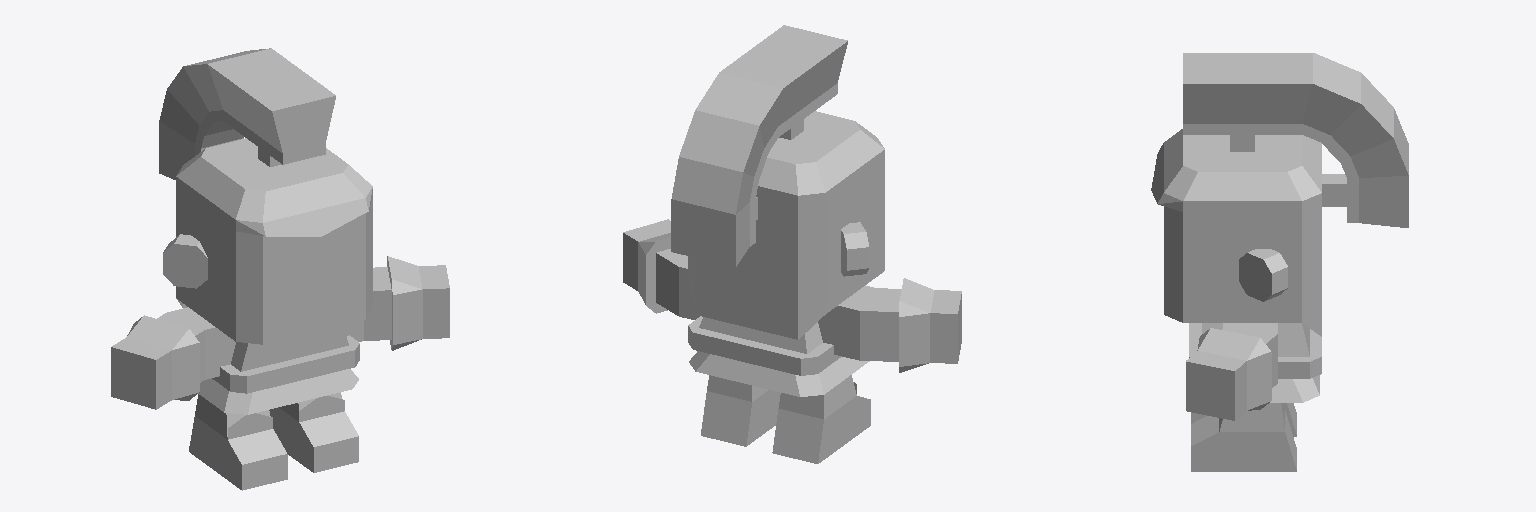
File: soldier.obj
3 renders of one model, left to right at view 1: azimuth 30°, elevation 25°; view 2: azimuth 150°, elevation 25°; view 3: azimuth 270°, elevation 25°, orthographic.
Parts seen in each view (by area): view 1: head_mesh, body_mesh; view 2: head_mesh, body_mesh; view 3: head_mesh, body_mesh.
Part boxes in pixels (left/top/right/bottom): head_mesh: left=159, top=48, right=372, bottom=344; body_mesh: left=111, top=256, right=449, bottom=490; head_mesh: left=671, top=25, right=884, bottom=339; body_mesh: left=623, top=219, right=961, bottom=463; head_mesh: left=1151, top=53, right=1408, bottom=336; body_mesh: left=1186, top=323, right=1321, bottom=471.
Bounding box in the file's own units: 0.7806 × 0.8363 × 0.52.